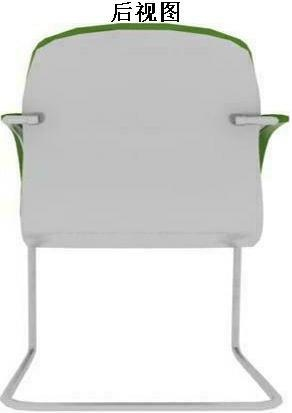obstacle: (2, 23, 286, 409)
